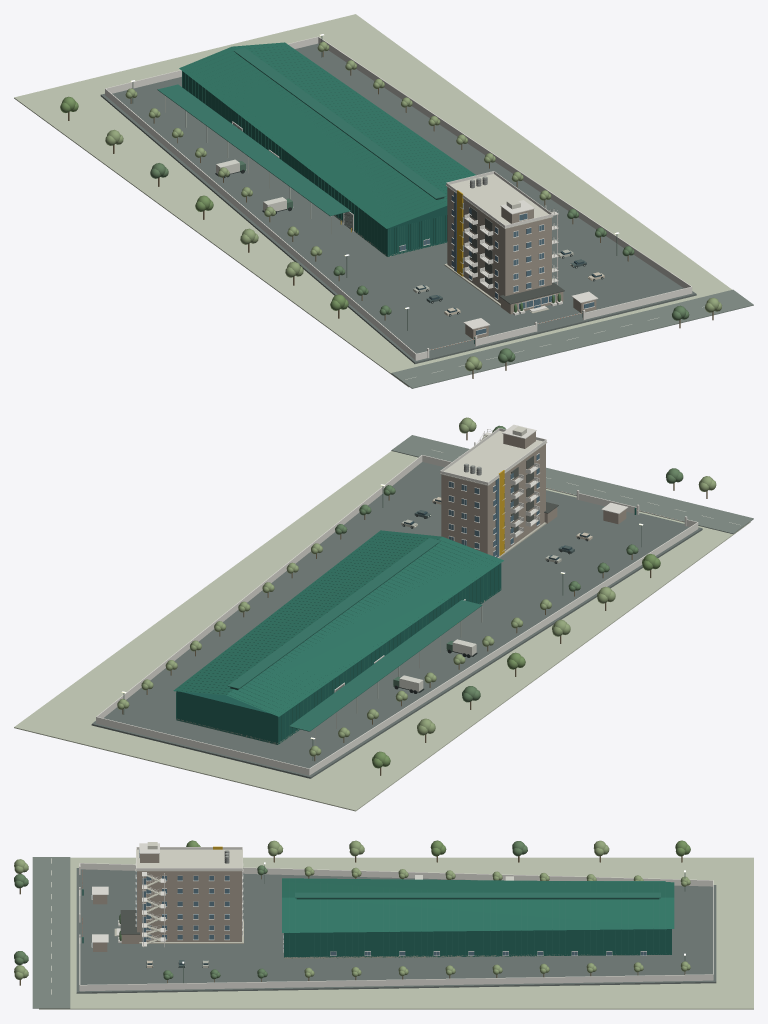
File: south-dagon-office-scdc-concept.glb
The picture shows the model from 3 angles, top to bottom: view 1: azimuth 30°, elevation 25°; view 2: azimuth 150°, elevation 25°; view 3: azimuth 270°, elevation 25°; orthographic projection. The views are drawn at different scales.
Visible parts, largest first — view 1: Yard and entrance, Surrounding road and landscape, Green warehouse, Sales office - ground, mezzanine, first through fourth floor; view 2: Yard and entrance, Surrounding road and landscape, Green warehouse, Sales office - ground, mezzanine, first through fourth floor; view 3: Surrounding road and landscape, Yard and entrance, Green warehouse, Sales office - ground, mezzanine, first through fourth floor.
Part boxes in pixels (x1,y1,x2,y2): Yard and entrance: [100, 34, 696, 363]; Surrounding road and landscape: [14, 14, 753, 388]; Green warehouse: [157, 42, 475, 257]; Sales office - ground, mezzanine, first through fourth floor: [444, 171, 564, 315]; Yard and entrance: [91, 455, 702, 778]; Surrounding road and landscape: [14, 417, 753, 811]; Green warehouse: [173, 530, 503, 744]; Sales office - ground, mezzanine, first through fourth floor: [439, 424, 558, 558]; Surrounding road and landscape: [14, 840, 753, 1009]; Yard and entrance: [76, 862, 716, 993]; Green warehouse: [282, 878, 674, 958]; Sales office - ground, mezzanine, first through fourth floor: [114, 842, 243, 947].
Bounding box in the file's own units: 114 × 31.27 × 236.
